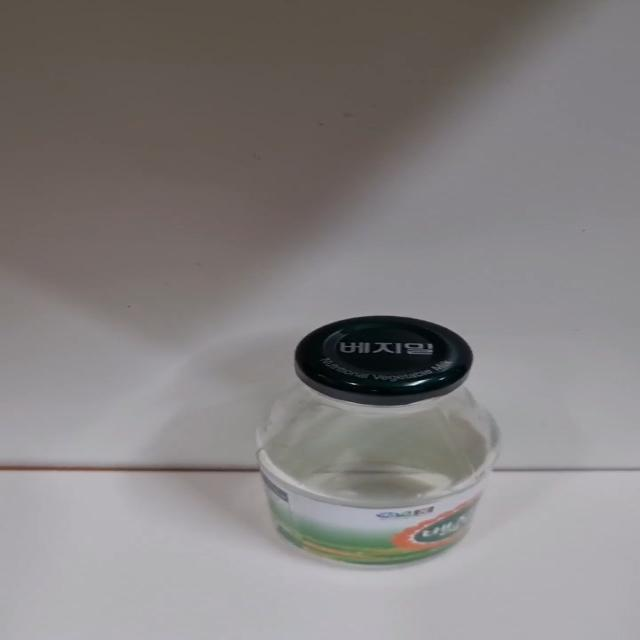Glass: (248, 315, 496, 575)
